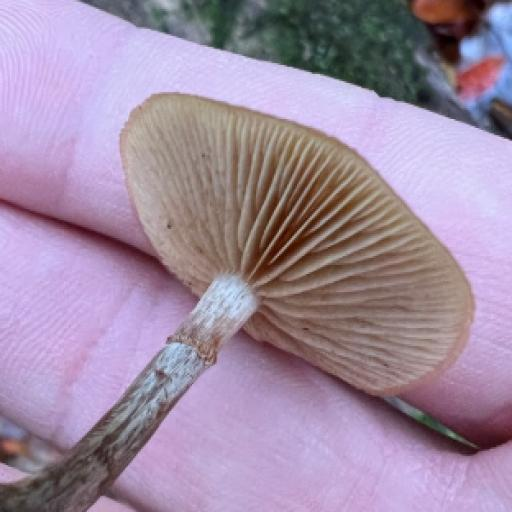mushroom: (102, 71, 477, 452)
